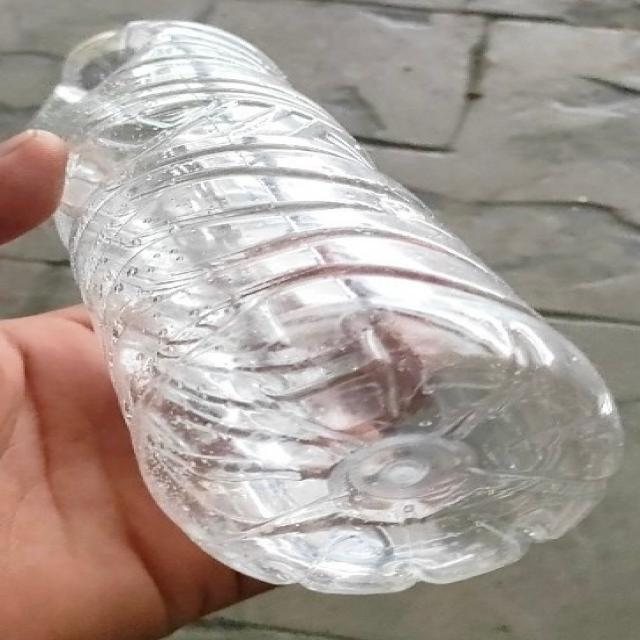plastic_bottle: (33, 20, 627, 594)
